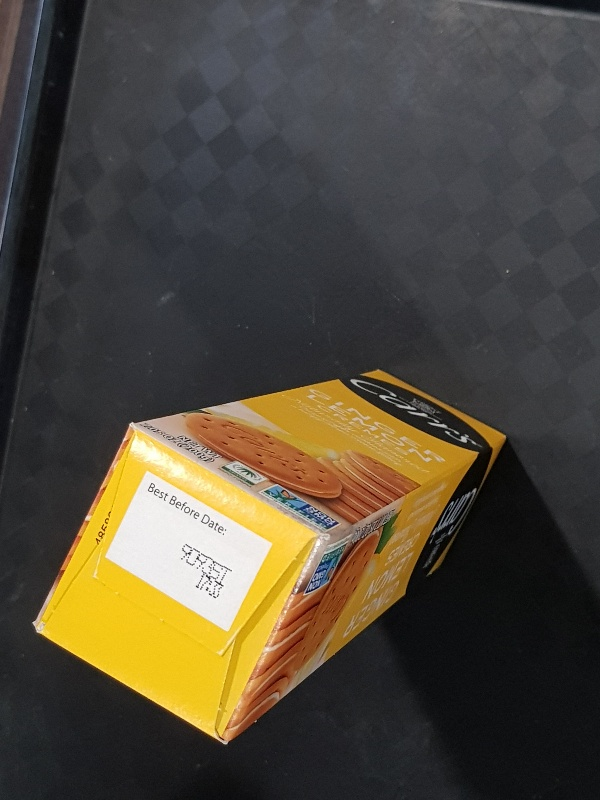Carr's Ginger Lemon Cremes: (33, 366, 507, 746)
